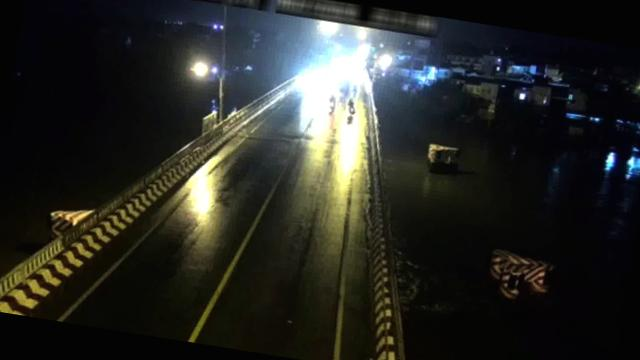Bike: (344, 96, 360, 116), (326, 93, 338, 113)
